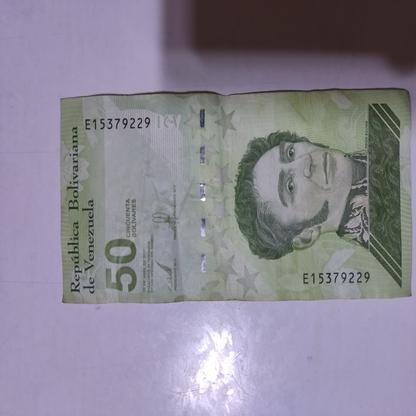fifty-front-vef: (60, 89, 410, 302)
